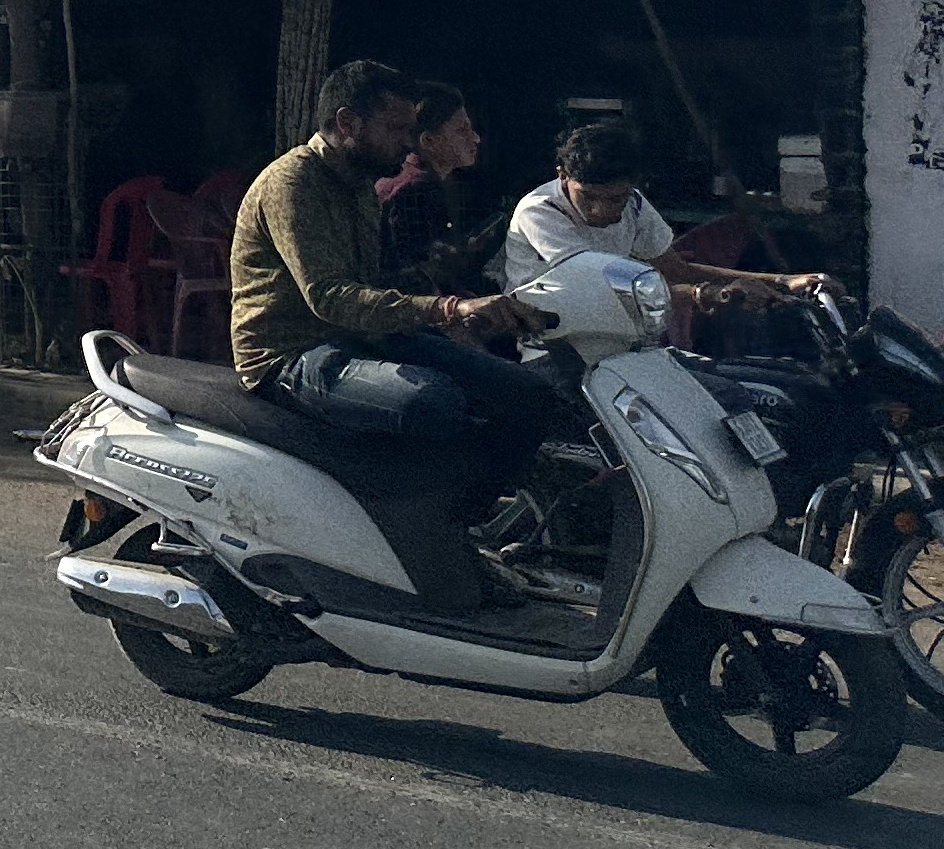BikeWithRider: (28, 52, 914, 806), (429, 97, 944, 719)
NoHelmet: (302, 57, 429, 177), (558, 121, 638, 233), (408, 89, 483, 172)
